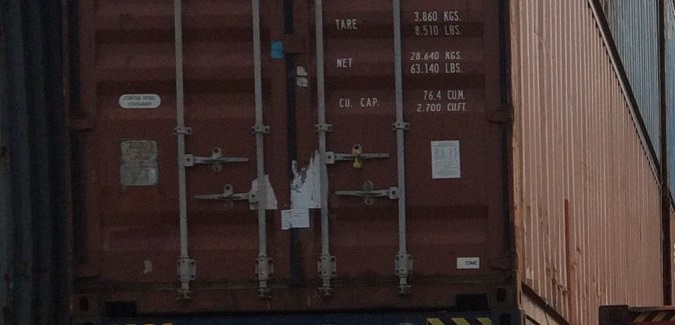container_door: (71, 1, 513, 317)
